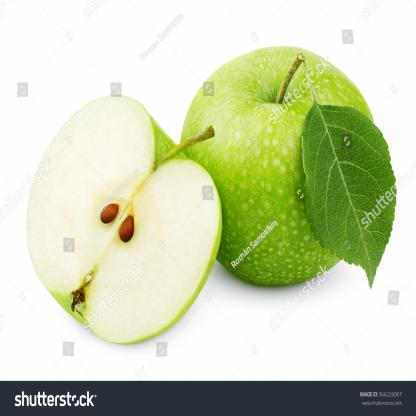apple leaf: (297, 95, 404, 297)
